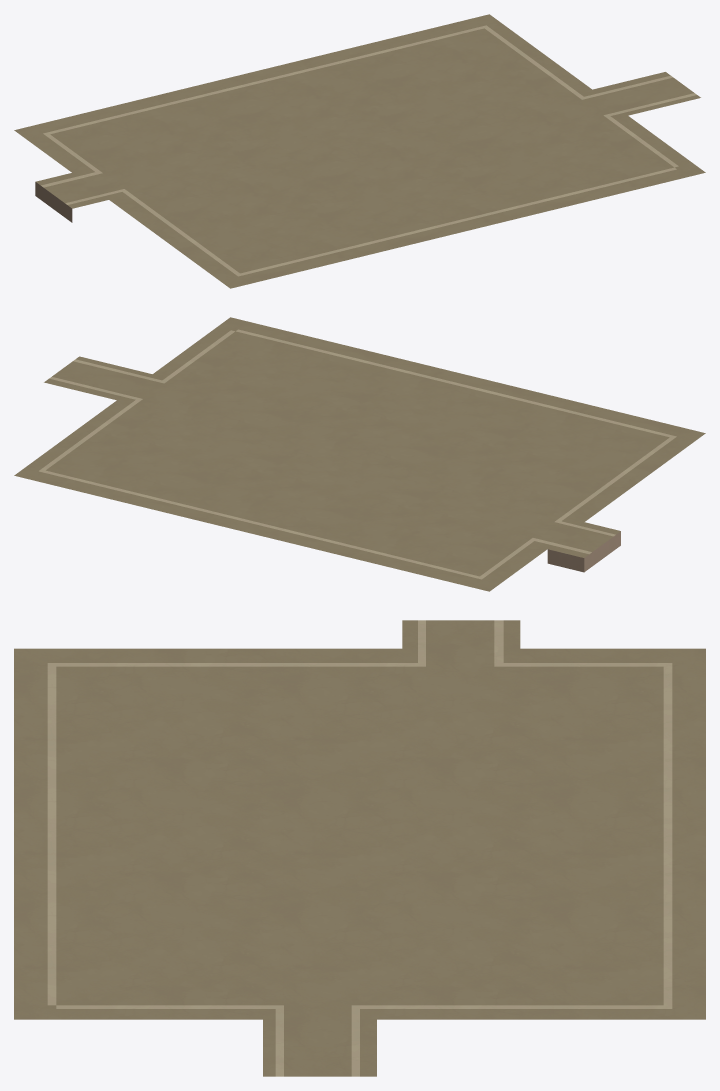
File: RightChairRoomFloor.fbx
The picture shows the model from 3 angles, top to bottom: view 1: azimuth 30°, elevation 25°; view 2: azimuth 150°, elevation 25°; view 3: azimuth 270°, elevation 25°; orthographic projection. The views are drawn at different scales.
Visible parts, largest first — view 1: Right Chair Room Floor; view 2: Right Chair Room Floor; view 3: Right Chair Room Floor.
Boxes of the visible parts, x1,y1,x2,y2 form: Right Chair Room Floor: (14, 14, 705, 288); Right Chair Room Floor: (14, 317, 705, 591); Right Chair Room Floor: (14, 620, 705, 1076).
Size of the model in its own units: 64 by 1.5 by 41.
